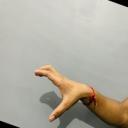hand: (33, 63, 94, 122)
